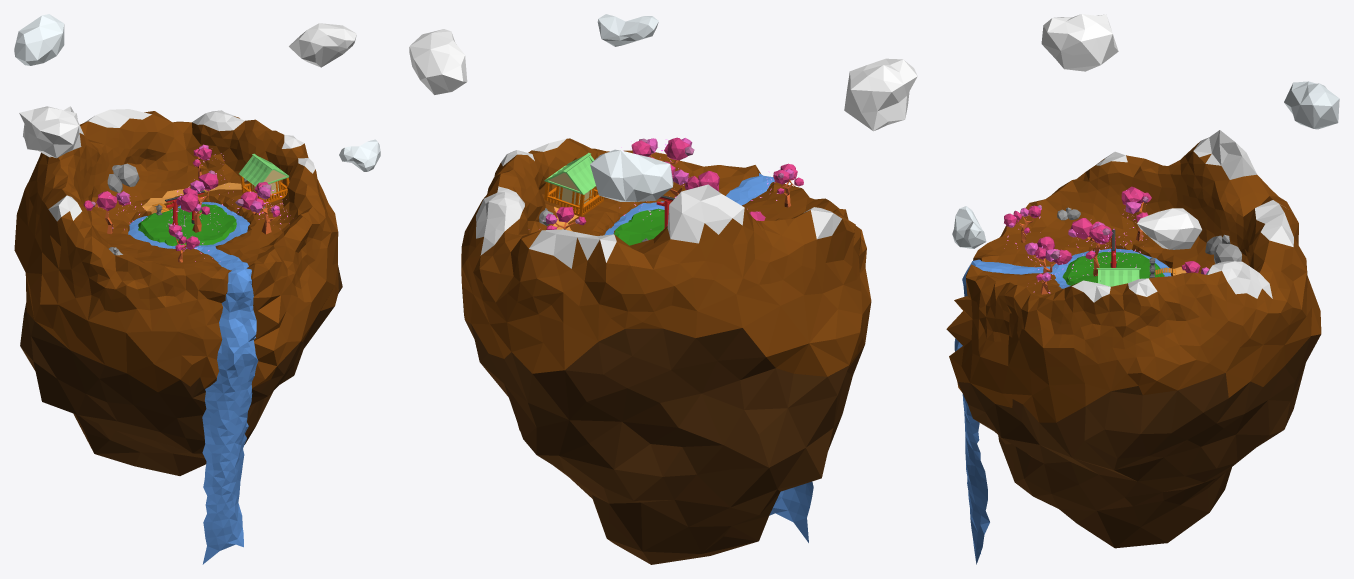
Rendered from sky-island.glb.
The picture shows the model from 3 angles, left to right: view 1: azimuth 30°, elevation 25°; view 2: azimuth 150°, elevation 25°; view 3: azimuth 270°, elevation 25°; orthographic projection. The views are drawn at different scales.
Visible parts, largest first — view 1: Isla, Agua, Icosphere.001, Hojas, Icosphere, Icosphere.002, Casa, Hojas.001, Icosphere.003, Roca; view 2: Isla, Icosphere.001, Icosphere, Icosphere.002, Agua, Hojas, Icosphere.003, Casa, Hojas.001, Cube.001; view 3: Isla, Agua, Icosphere.001, Hojas, Icosphere, Icosphere.002, Icosphere.003, Hojas.001, Roca, Casa.
Part boxes in pixels (bbox=[...]): Isla: bbox=[14, 106, 342, 475]; Agua: bbox=[128, 202, 258, 564]; Icosphere.001: bbox=[19, 106, 81, 158]; Hojas: bbox=[83, 144, 280, 250]; Icosphere: bbox=[14, 14, 64, 65]; Icosphere.002: bbox=[289, 23, 356, 67]; Casa: bbox=[239, 153, 288, 186]; Hojas.001: bbox=[176, 170, 218, 214]; Icosphere.003: bbox=[339, 139, 380, 171]; Roca: bbox=[107, 163, 139, 192]; Isla: bbox=[461, 138, 871, 564]; Icosphere.001: bbox=[844, 58, 917, 131]; Icosphere: bbox=[590, 149, 673, 201]; Icosphere.002: bbox=[409, 29, 467, 94]; Agua: bbox=[604, 173, 813, 542]; Hojas: bbox=[545, 137, 803, 229]; Icosphere.003: bbox=[597, 14, 658, 46]; Casa: bbox=[544, 152, 595, 194]; Hojas.001: bbox=[664, 161, 719, 196]; Cube.001: bbox=[544, 182, 603, 216]; Isla: bbox=[946, 130, 1321, 548]; Agua: bbox=[954, 248, 1171, 564]; Icosphere.001: bbox=[1041, 14, 1118, 71]; Hojas: bbox=[1004, 186, 1209, 281]; Icosphere: bbox=[1284, 81, 1339, 129]; Icosphere.002: bbox=[1137, 208, 1201, 249]; Icosphere.003: bbox=[952, 206, 986, 248]; Hojas.001: bbox=[1068, 218, 1112, 259]; Roca: bbox=[1205, 234, 1241, 263]; Casa: bbox=[1096, 268, 1140, 286].
Size of the model in its own units: 1406 by 1665 by 1225.
